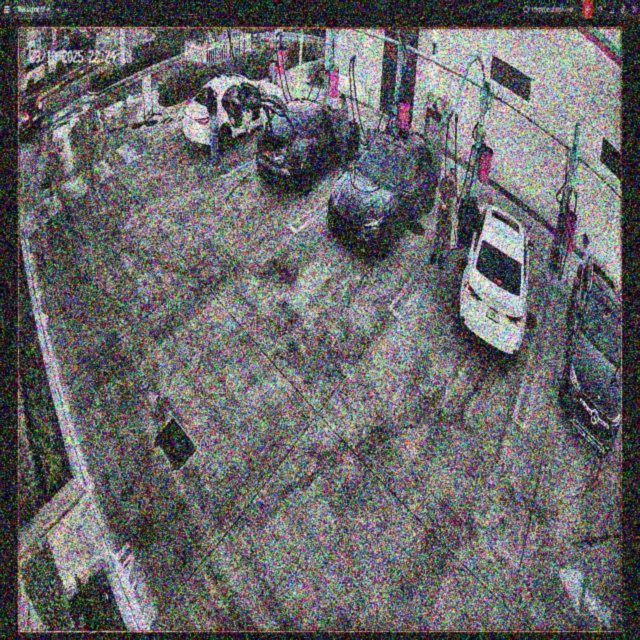Car: (328, 130, 435, 263), (457, 190, 529, 366), (258, 93, 359, 199), (182, 72, 285, 153)
